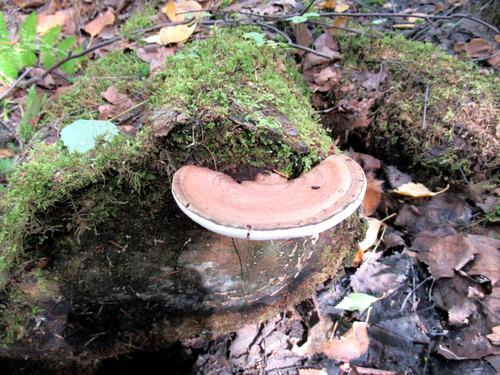Ganoderma - Fruit Body: (170, 152, 368, 239)
